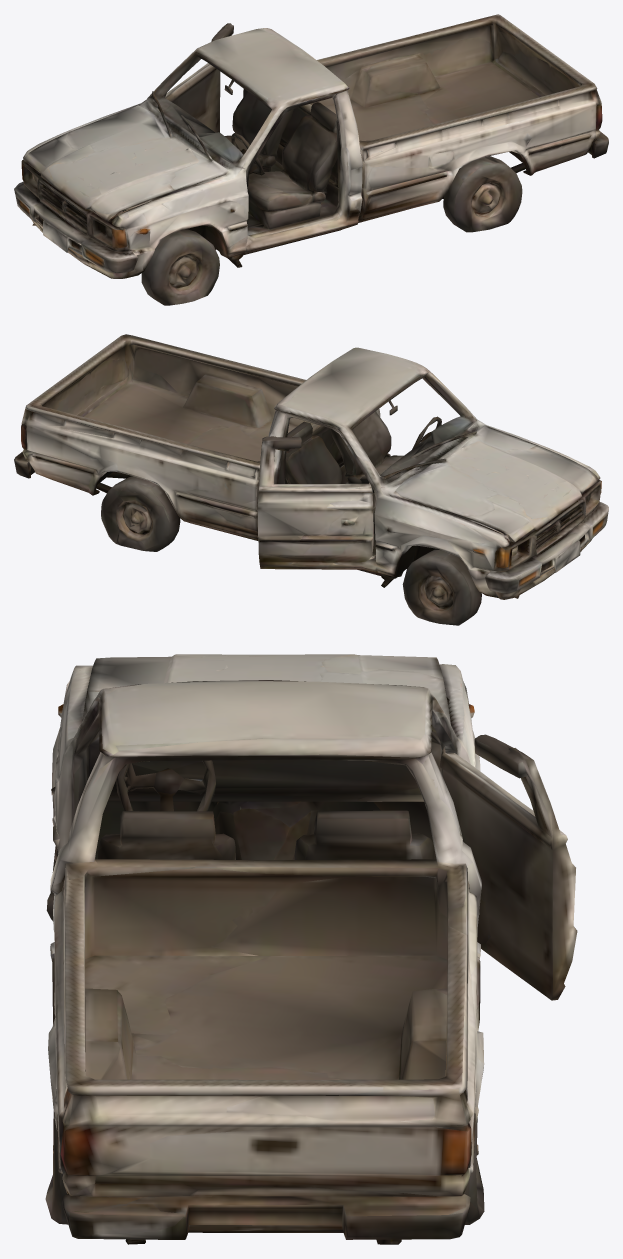
The picture shows the model from 3 angles, top to bottom: view 1: azimuth 30°, elevation 25°; view 2: azimuth 150°, elevation 25°; view 3: azimuth 270°, elevation 25°; orthographic projection. The views are drawn at different scales.
Parts seen in each view (by area): view 1: node_0; view 2: node_0; view 3: node_0.
Part boxes in pixels (x1=…): node_0: x1=14, y1=14, x2=608, y2=305; node_0: x1=14, y1=334, x2=608, y2=625; node_0: x1=45, y1=654, x2=577, y2=1244.
Bounding box in the file's own units: 1.12 × 0.3564 × 0.5051.
1 material, 1 textured.
